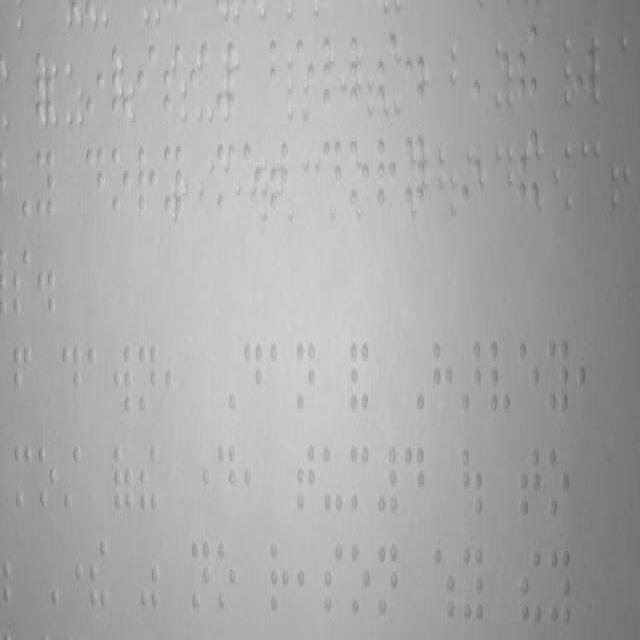braiile: (33, 136, 61, 234), (484, 330, 514, 421), (544, 332, 574, 423), (458, 541, 489, 628), (373, 131, 403, 216), (291, 333, 319, 422), (515, 331, 543, 420), (517, 440, 545, 529), (547, 543, 575, 630), (429, 333, 457, 418), (373, 537, 402, 619), (346, 436, 374, 520), (213, 436, 241, 520), (58, 333, 84, 422), (402, 439, 430, 521), (293, 439, 321, 521), (240, 336, 266, 424), (320, 436, 346, 524), (188, 534, 214, 622), (320, 131, 348, 211), (9, 339, 36, 421), (267, 30, 289, 130), (136, 140, 162, 224), (36, 433, 60, 522), (109, 141, 135, 223), (134, 339, 160, 421), (84, 136, 108, 224), (84, 336, 108, 424), (267, 336, 291, 424), (14, 434, 36, 530), (138, 34, 158, 136), (215, 533, 239, 618), (347, 536, 373, 614), (110, 336, 134, 420), (546, 440, 570, 524), (268, 537, 292, 619), (322, 536, 346, 614), (12, 244, 34, 324), (376, 31, 396, 111)
